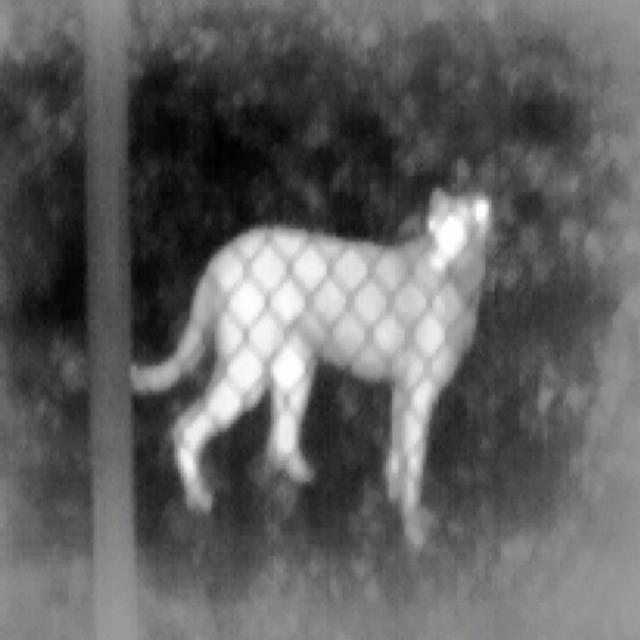cheetah: (130, 189, 490, 540)
